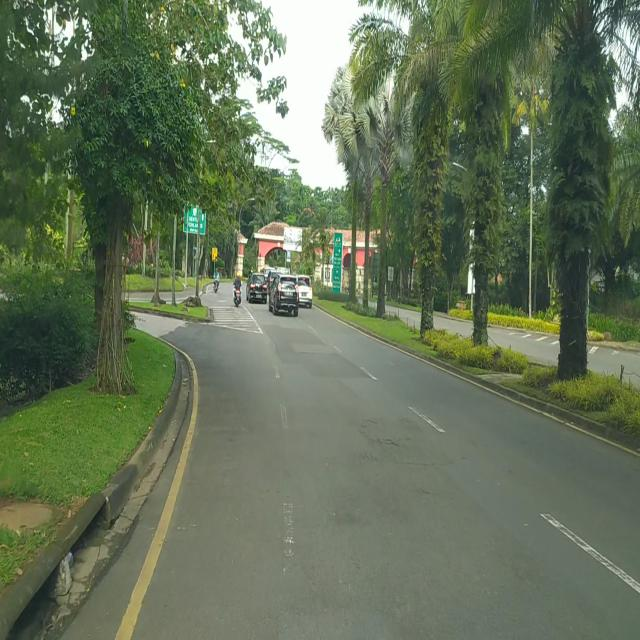Drain Hole: (346, 407, 412, 459)
